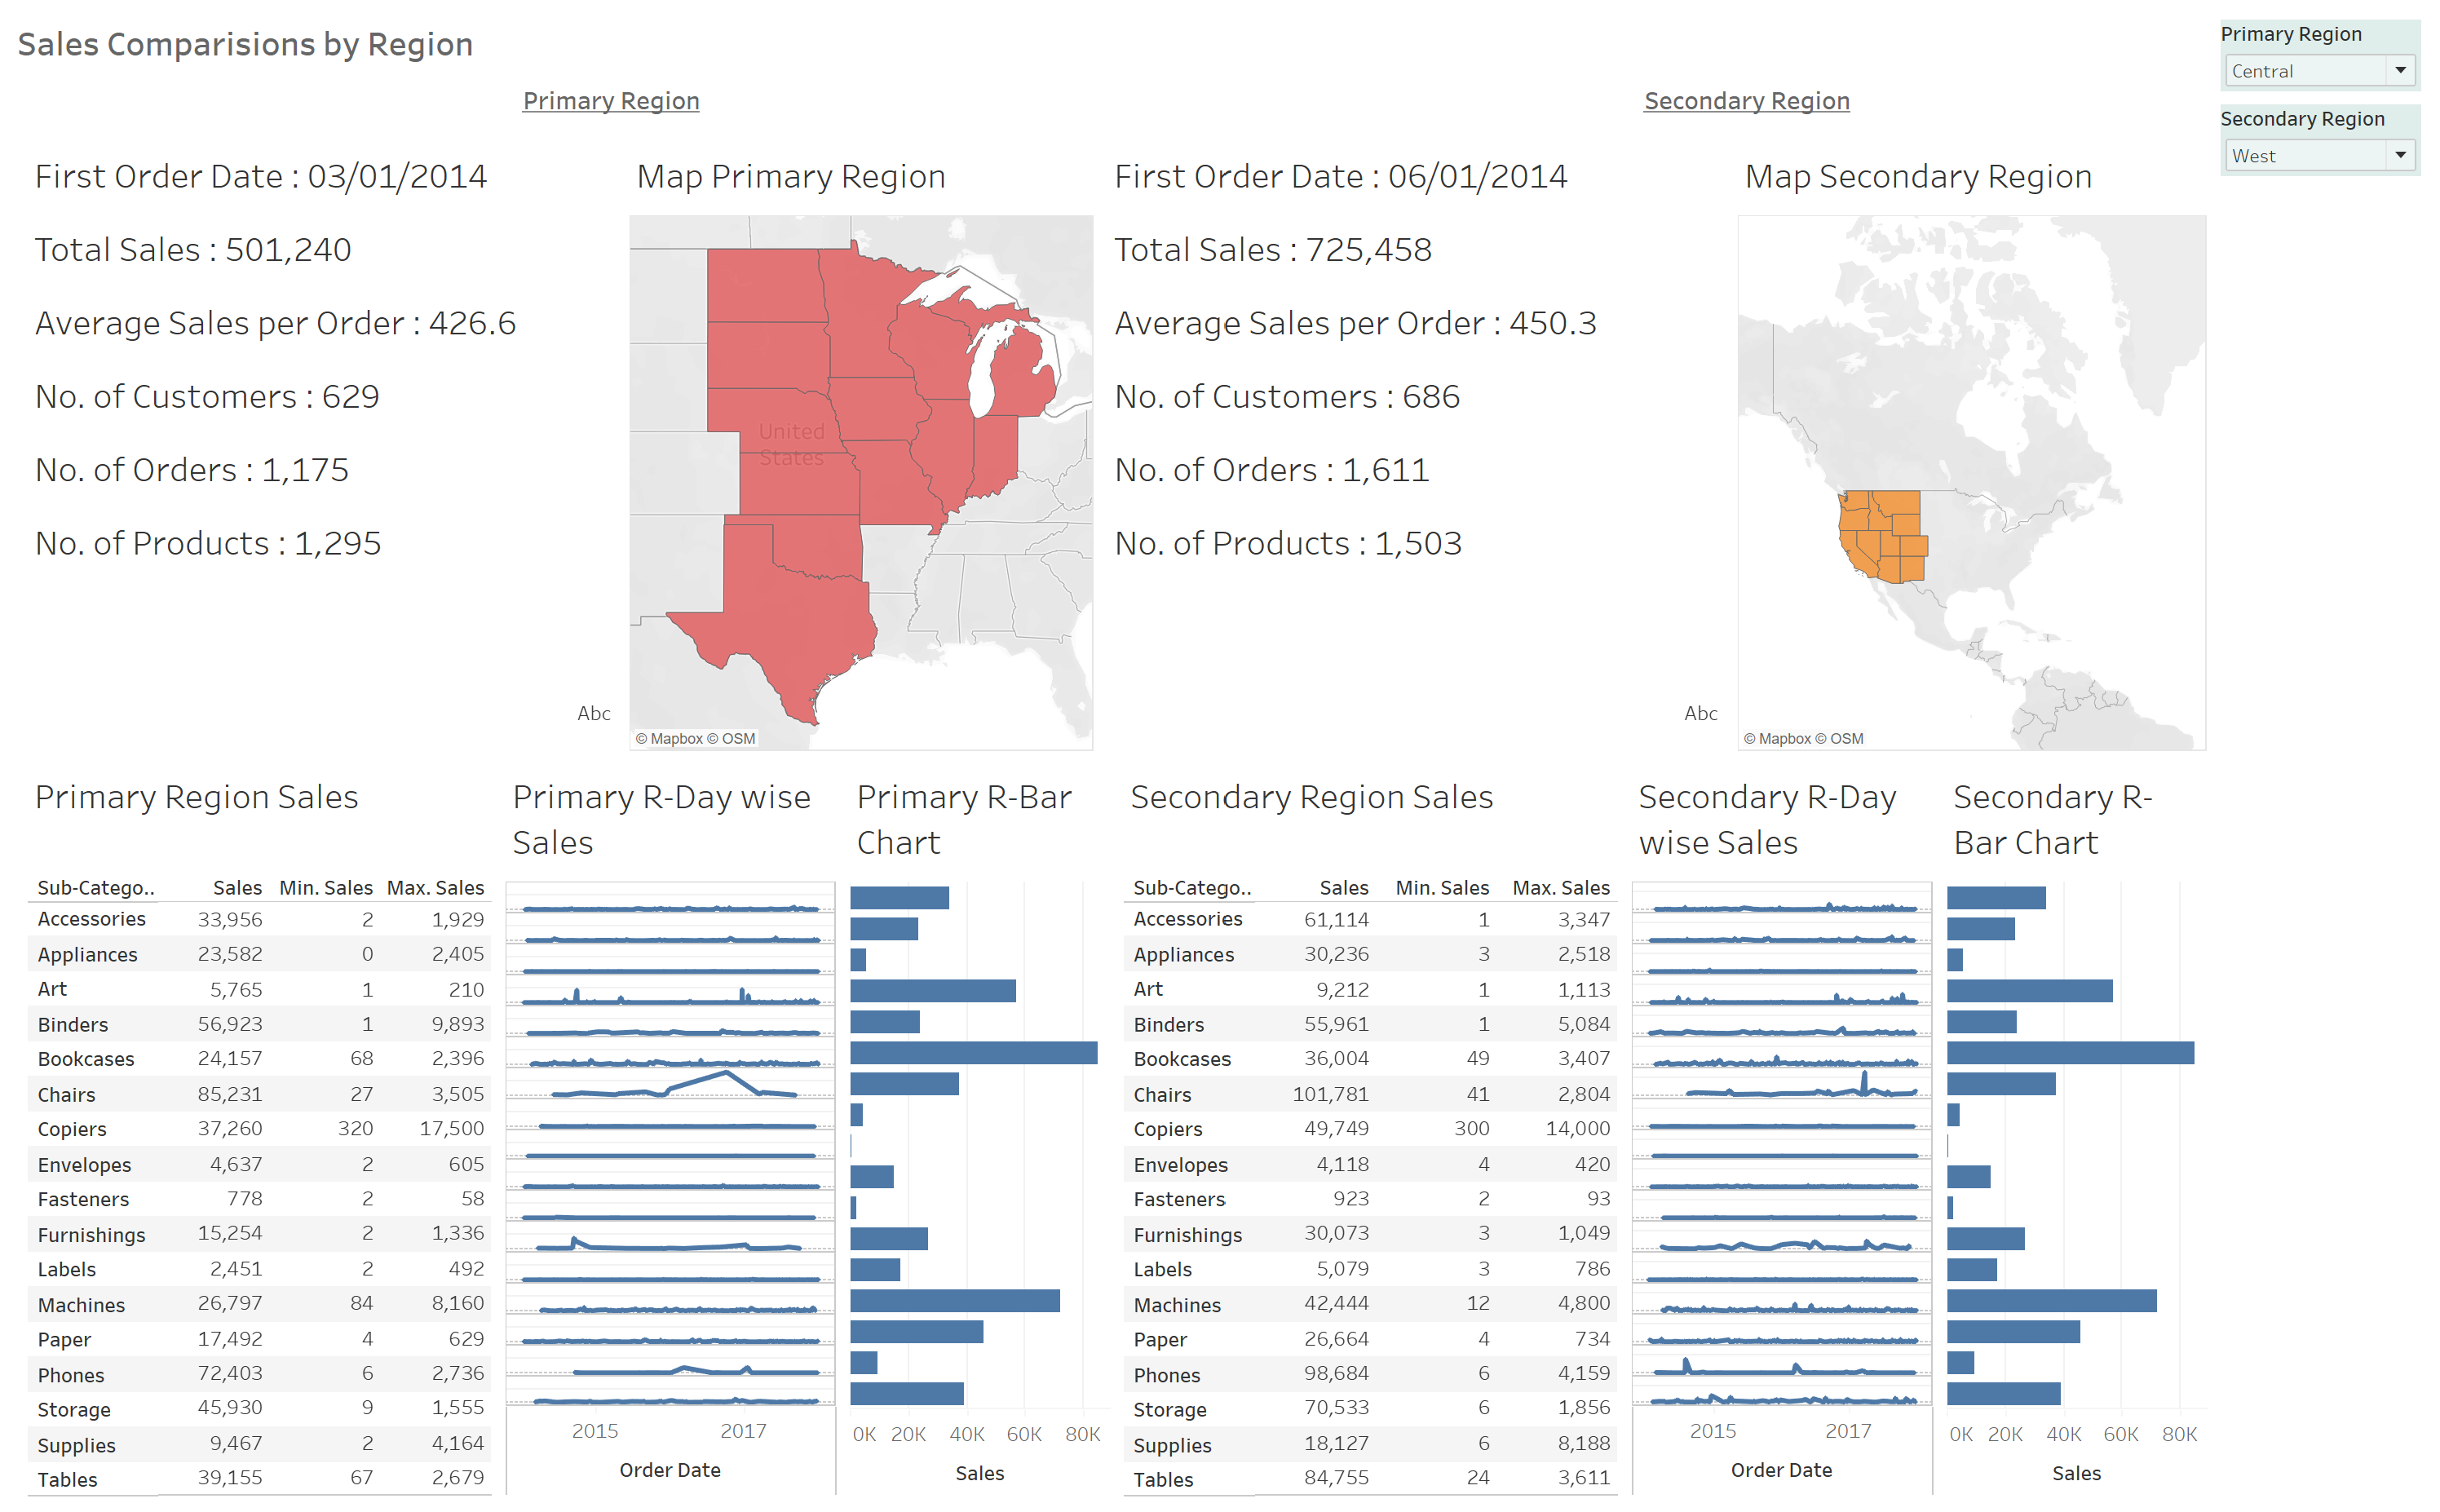

The dashboard page shown, as its layout file describes it:
{"tool":"tableau","page":{"name":"Dashboard","canvas":[1000,1000],"units":"permille","ordinal":0},"visuals":[{"type":"text","box":[6.4,11.1,900.3,41.1]},{"type":"parameter","param":"[Parameters].[Parameter 1]","box":[906.7,11.1,87,72]},{"type":"text","box":[6.4,52.2,493.5,33.4]},{"type":"text","box":[525,52.2,381.6,33.4]},{"type":"parameter","param":"[Parameters].[Parameter 2]","box":[906.7,83.1,87,72]},{"type":"worksheet","title":"Primary Region","mark":"Automatic","box":[12.4,93.3,245.3,406.6]},{"type":"worksheet","title":"Map Primary Region","mark":"Multipolygon","box":[257.7,93.3,195.2,406.6]},{"type":"worksheet","title":"Secondary Region","mark":"Automatic","box":[452.9,93.3,256.7,406.6]},{"type":"worksheet","title":"Map Secondary Region","mark":"Multipolygon","box":[709.6,93.3,197,406.6]},{"type":"worksheet","title":"Primary Region Sales","mark":"Automatic","rows":["Sub-Category"],"box":[12.4,499.9,194.8,489]},{"type":"worksheet","title":"Primary R-Day wise Sales","mark":"Automatic","rows":["Sub-Category","Sales"],"cols":["Order Date"],"box":[207.2,499.9,140.6,489]},{"type":"worksheet","title":"Primary R-Bar Chart","mark":"Automatic","rows":["Sub-Category"],"cols":["Sales"],"box":[347.8,499.9,111.8,489]},{"type":"worksheet","title":"Secondary Region Sales","mark":"Automatic","rows":["Sub-Category"],"box":[459.5,499.9,206.8,489]},{"type":"worksheet","title":"Secondary R-Day wise Sales","mark":"Line","rows":["Sub-Category","Sales"],"cols":["Order Date"],"box":[666.3,499.9,128.6,489]},{"type":"worksheet","title":"Secondary R-Bar Chart","mark":"Automatic","rows":["Sub-Category"],"cols":["Sales"],"box":[794.9,499.9,111.8,489]}]}

Visuals, with their boxes on the dashboard's canvas, which has no fixed pixel size, in thousandths of its width and height (x1, y1, x2, y2). These are canvas units, not pixel positions in the 2440x1512 screenshot, which may show the page scaled, cropped or inside an application window:
text: 6:11:907:52
parameter: 907:11:994:83
text: 6:52:500:86
text: 525:52:907:86
parameter: 907:83:994:155
"Primary Region" worksheet: 12:93:258:500
"Map Primary Region" worksheet (Multipolygon marks): 258:93:453:500
"Secondary Region" worksheet: 453:93:710:500
"Map Secondary Region" worksheet (Multipolygon marks): 710:93:907:500
"Primary Region Sales" worksheet: 12:500:207:989
"Primary R-Day wise Sales" worksheet: 207:500:348:989
"Primary R-Bar Chart" worksheet: 348:500:460:989
"Secondary Region Sales" worksheet: 460:500:666:989
"Secondary R-Day wise Sales" worksheet (Line marks): 666:500:795:989
"Secondary R-Bar Chart" worksheet: 795:500:907:989
